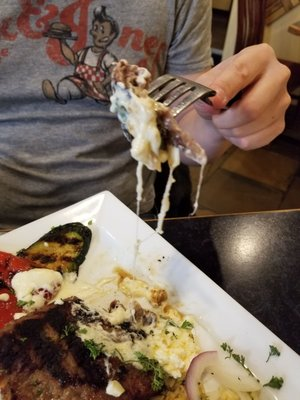sandwich: (0, 221, 206, 400)
sushi: (108, 62, 208, 177)
